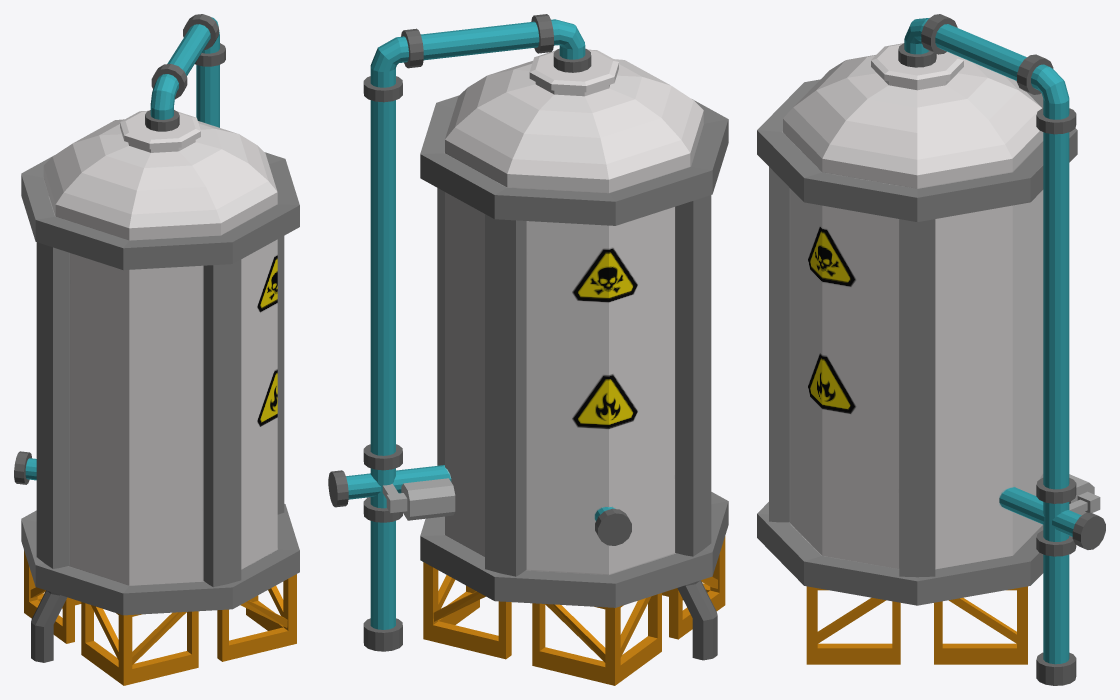
File: tanque_pequeno.obj
The picture shows the model from 3 angles, left to right: view 1: azimuth 30°, elevation 25°; view 2: azimuth 150°, elevation 25°; view 3: azimuth 270°, elevation 25°; orthographic projection. The views are drawn at different scales.
Visible parts, largest first — view 1: export__Fuel_Tank_1; view 2: export__Fuel_Tank_1; view 3: export__Fuel_Tank_1.
Part boxes in pixels (left/top/right/bottom): export__Fuel_Tank_1: left=14, top=14, right=299, bottom=685; export__Fuel_Tank_1: left=328, top=14, right=728, bottom=685; export__Fuel_Tank_1: left=757, top=14, right=1105, bottom=685.
Bounding box in the file's own units: 0.525 × 1 × 0.5168.
Materials: 1 (1 with a texture image).
